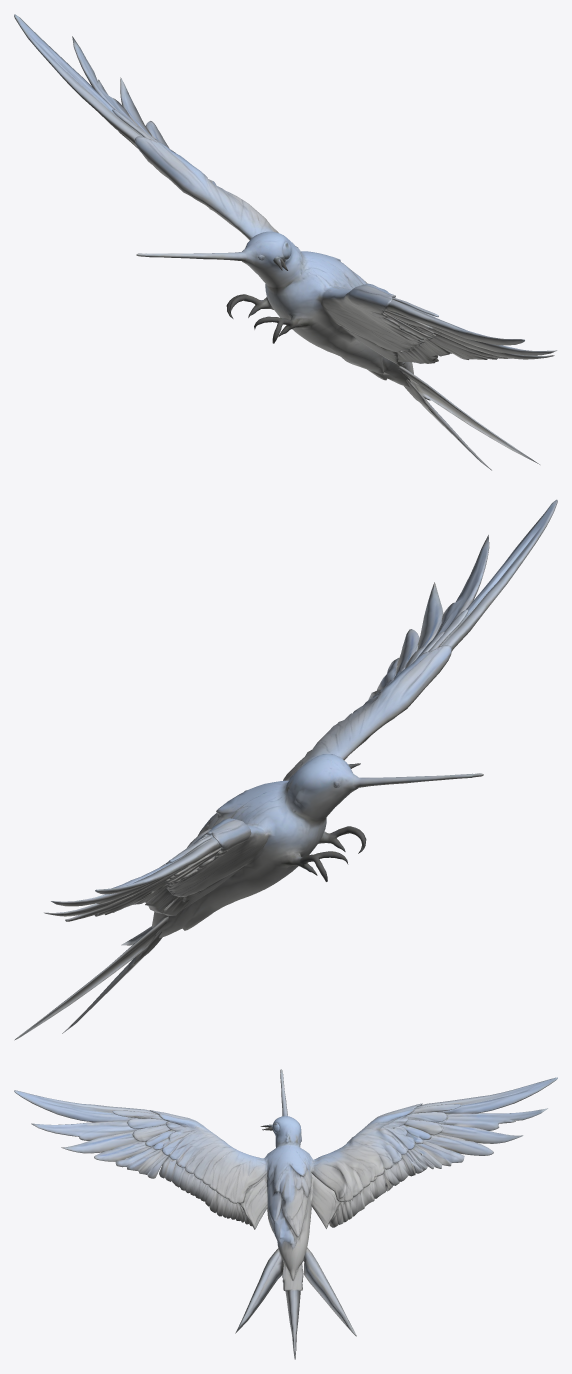
The model's file is bird.glb.
3 renders of one model, top to bottom at view 1: azimuth 30°, elevation 25°; view 2: azimuth 150°, elevation 25°; view 3: azimuth 270°, elevation 25°, orthographic. The views are drawn at different scales.
Parts seen in each view (by area): view 1: tripo_node_90b5d004-3e64-4feb-82d3-9b6da1248798; view 2: tripo_node_90b5d004-3e64-4feb-82d3-9b6da1248798; view 3: tripo_node_90b5d004-3e64-4feb-82d3-9b6da1248798.
Boxes of the visible parts, box(x1,y1,x2,y2) form: tripo_node_90b5d004-3e64-4feb-82d3-9b6da1248798: box(14, 14, 557, 470); tripo_node_90b5d004-3e64-4feb-82d3-9b6da1248798: box(14, 499, 557, 1040); tripo_node_90b5d004-3e64-4feb-82d3-9b6da1248798: box(14, 1069, 557, 1359).
Size of the model in its own units: 0.4595 by 0.4253 by 0.9995.
Materials: 1 (1 with a texture image).
